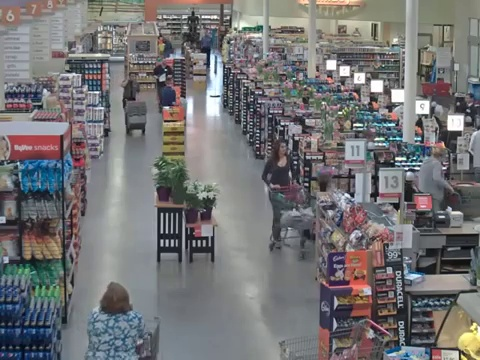face: (280, 143, 287, 154), (465, 95, 473, 103), (130, 74, 136, 80)
